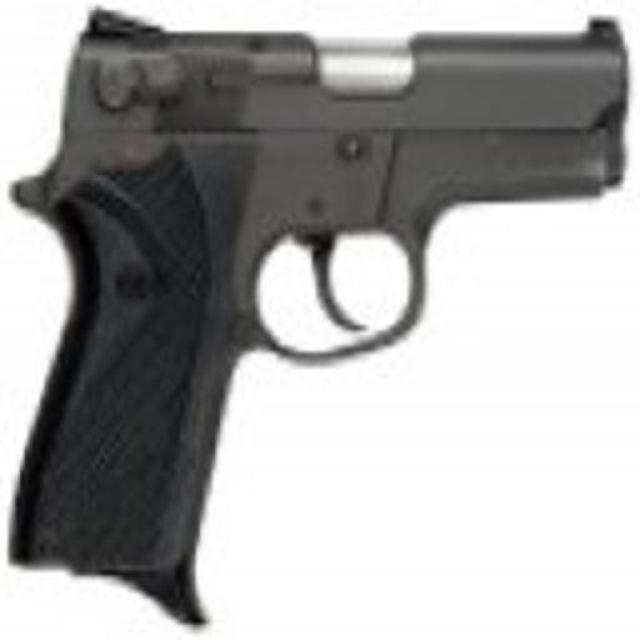pistol: (3, 10, 631, 612)
